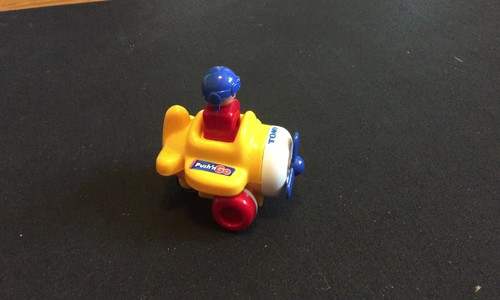toy: (157, 61, 308, 234)
